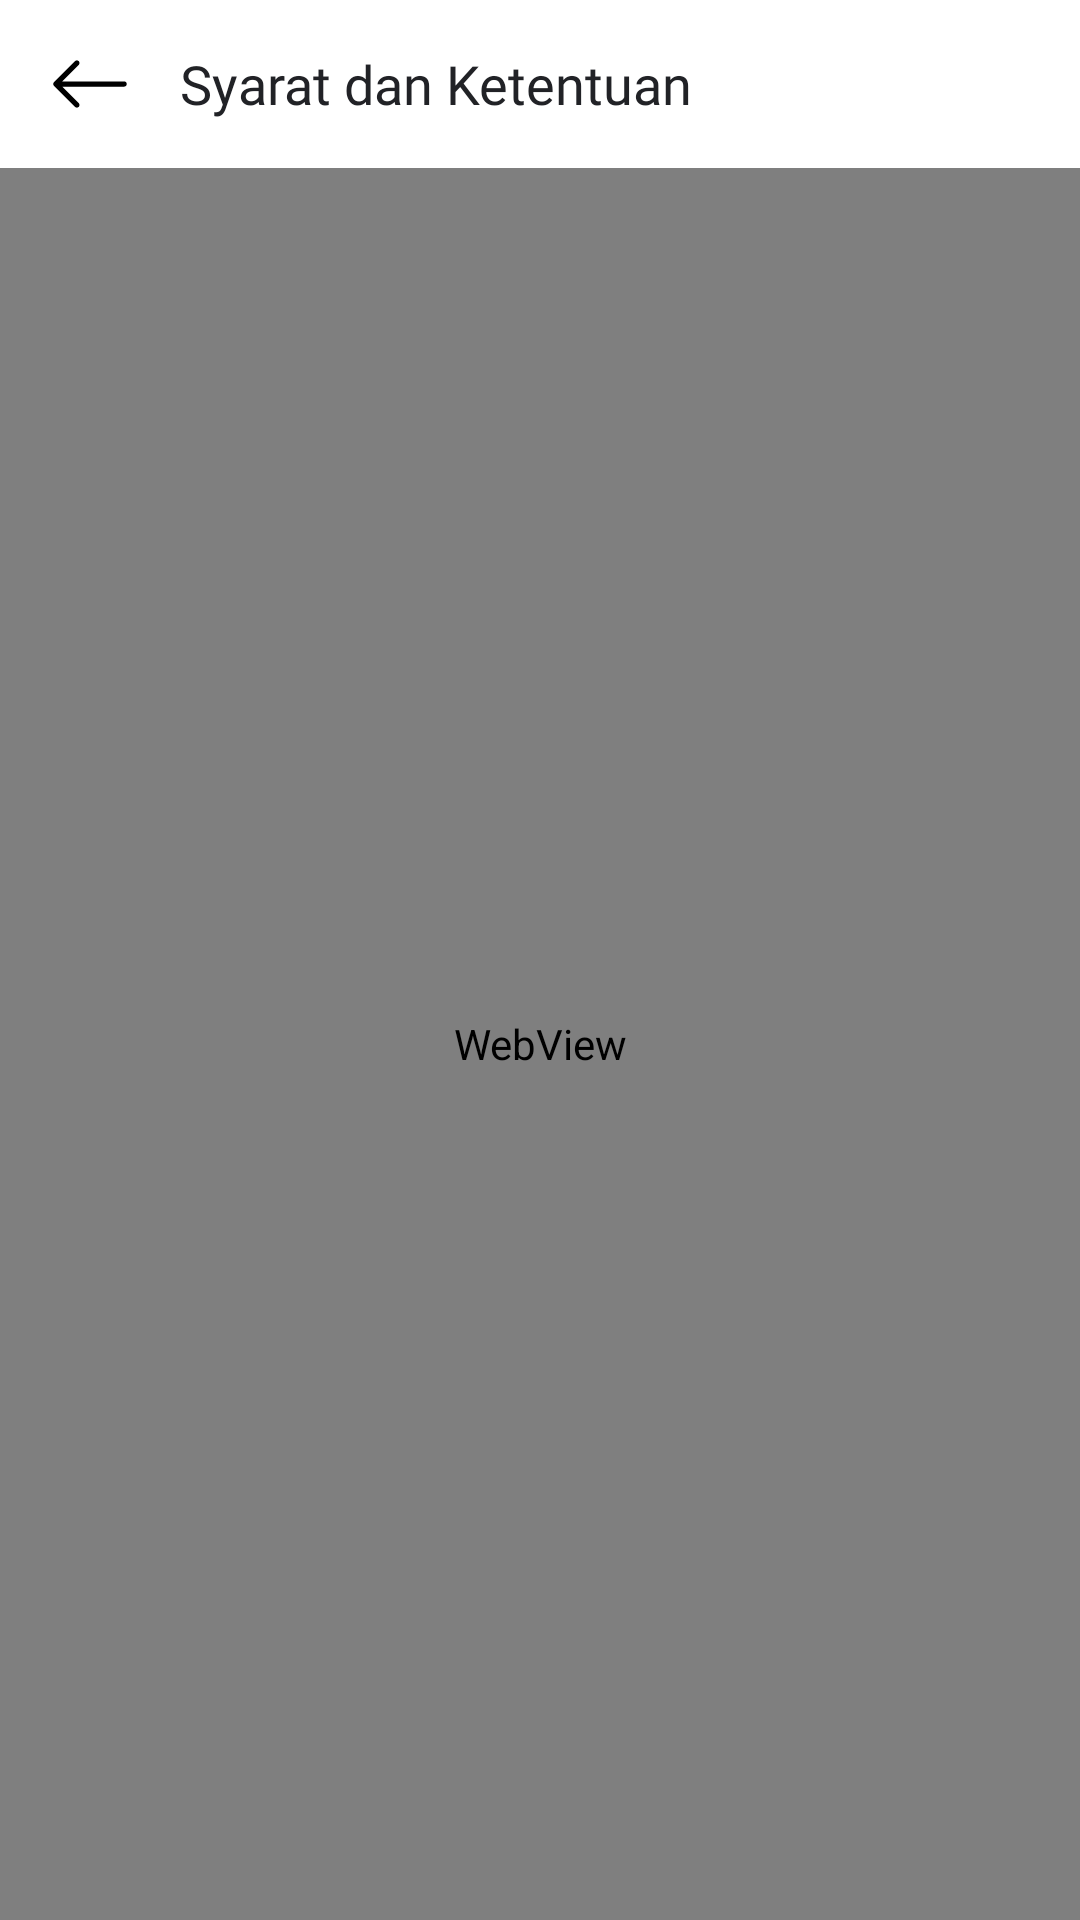

Icons on this 1080px×1920px Android screen, each with the point to tap as [x,y]:
arrow left: [90,84]
